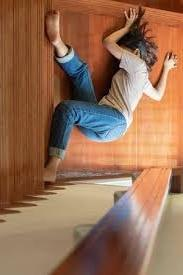fall: (52, 0, 171, 198)
